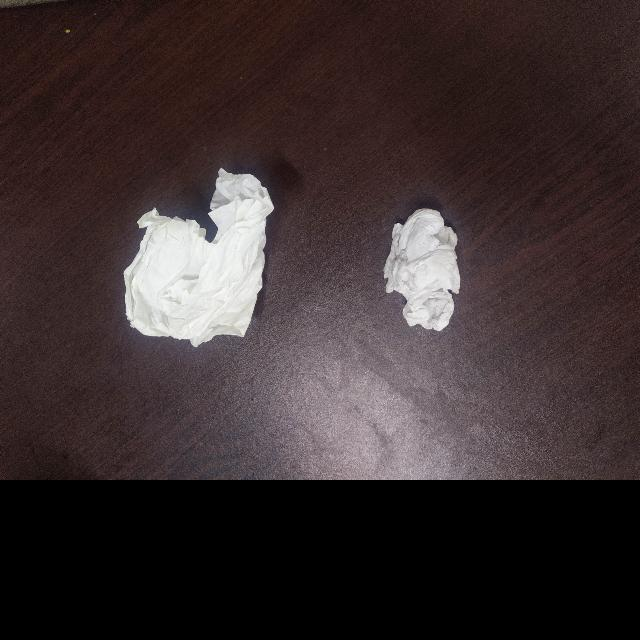kitchen paper: (115, 162, 272, 349), (380, 203, 465, 346)
